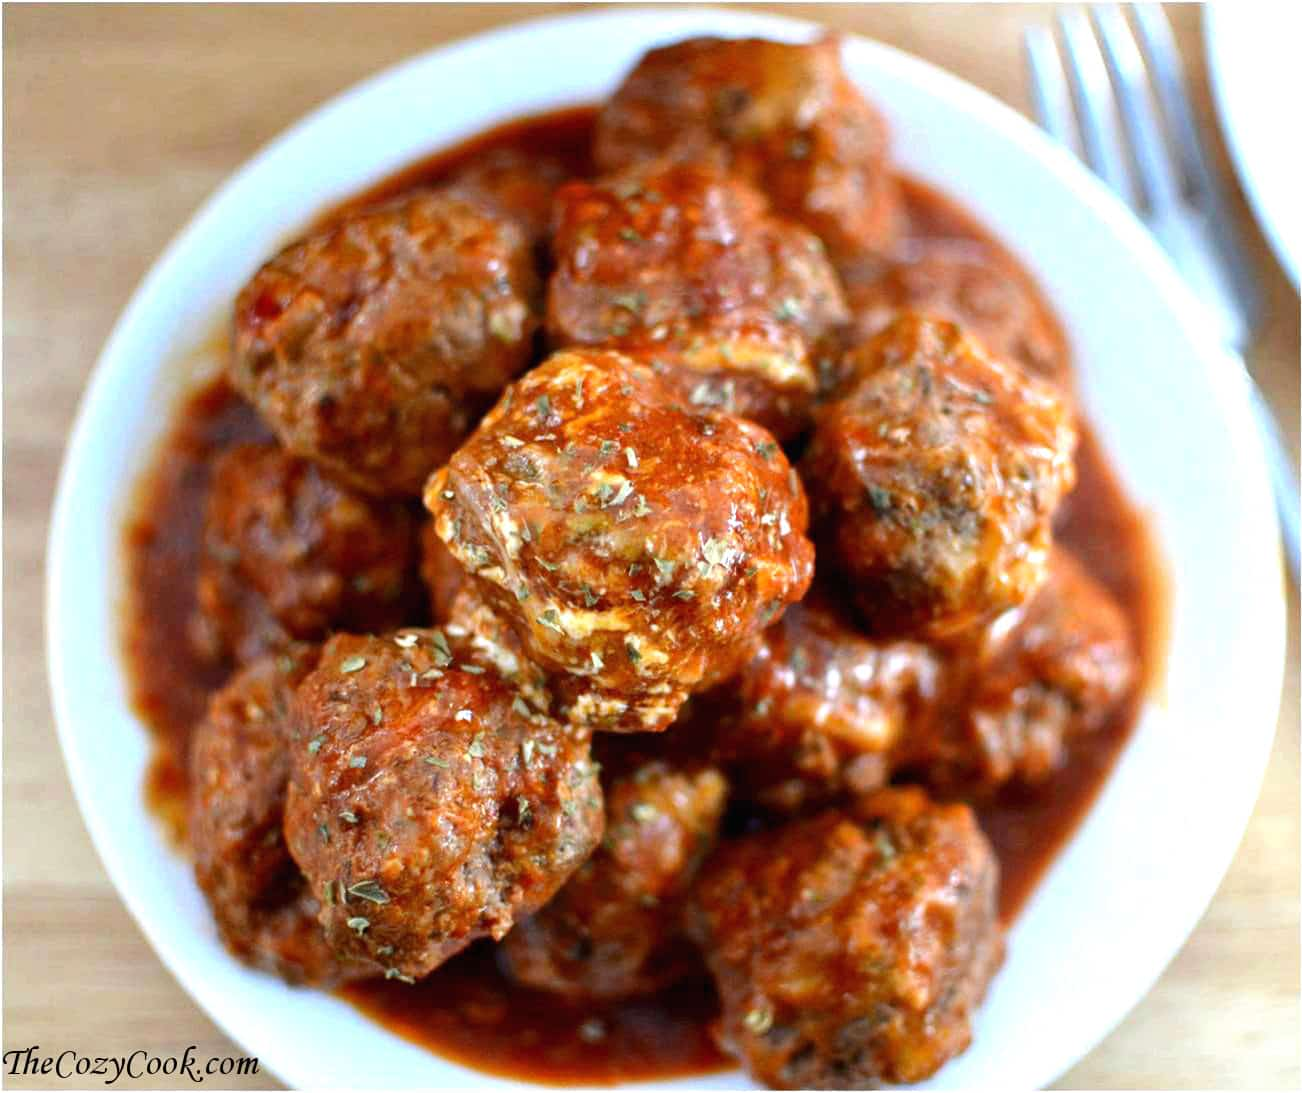meatballs: (436, 362, 804, 707), (295, 654, 600, 962), (232, 221, 533, 465), (821, 327, 1073, 614), (714, 831, 1002, 1060), (585, 165, 850, 398)
